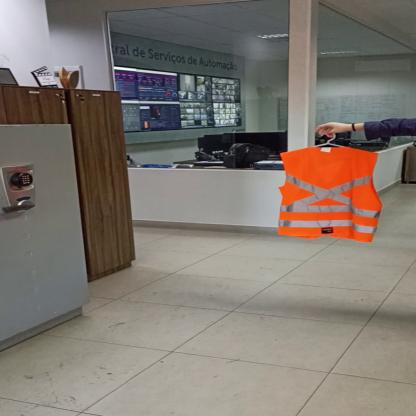colete: (275, 145, 385, 242)
